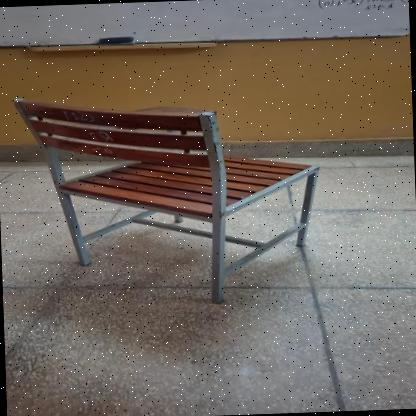chair: (3, 80, 335, 315)
